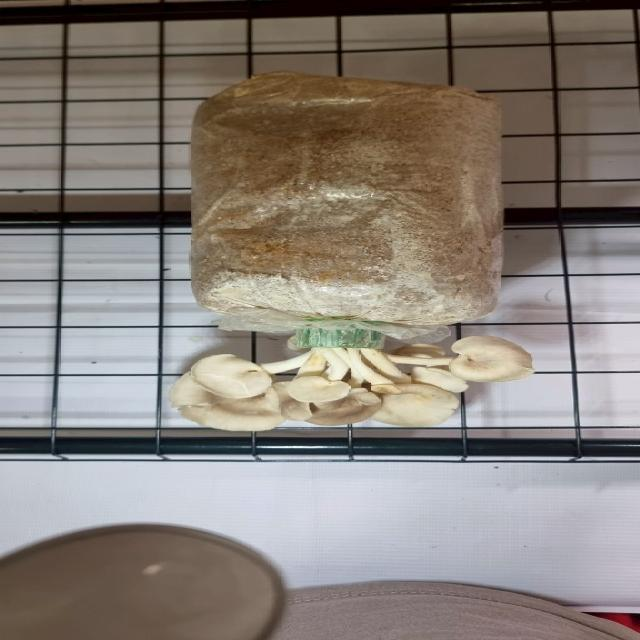normal: (167, 324, 542, 435)
